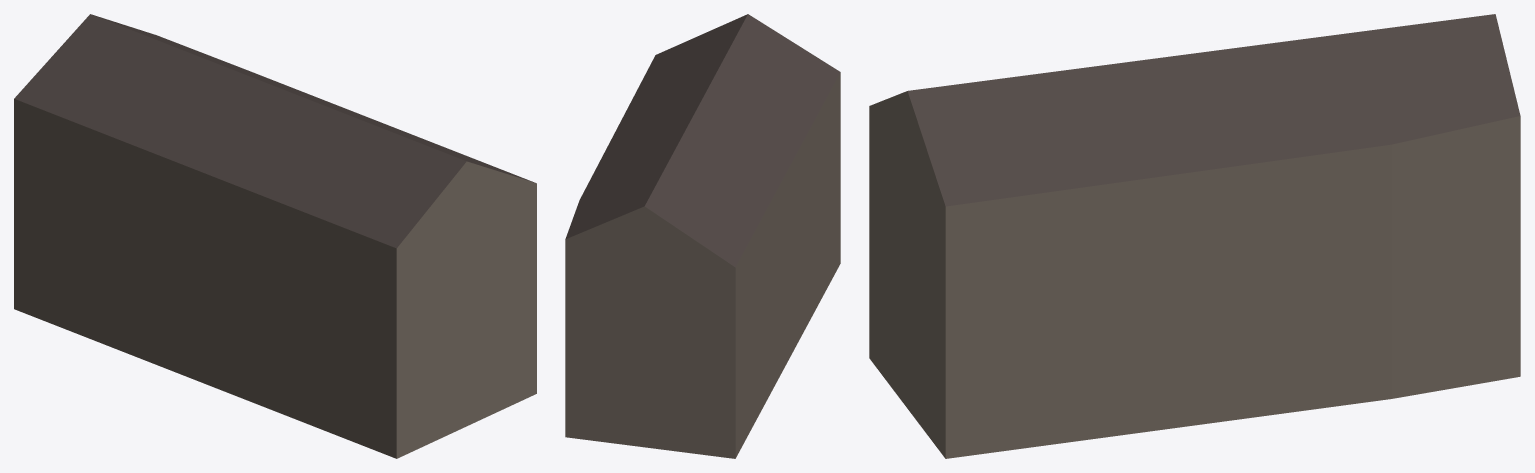
3 renders of one model, left to right at view 1: azimuth 30°, elevation 25°; view 2: azimuth 150°, elevation 25°; view 3: azimuth 270°, elevation 25°, orthographic. The views are drawn at different scales.
Visible parts, largest first — view 1: HP-w1198893550; view 2: HP-w1198893550; view 3: HP-w1198893550.
Part boxes in pixels (left/top/right/bottom): HP-w1198893550: left=14, top=14, right=536, bottom=458; HP-w1198893550: left=565, top=14, right=840, bottom=458; HP-w1198893550: left=869, top=14, right=1520, bottom=458.
Size of the model in its own units: 9.11 by 7.55 by 14.03.
